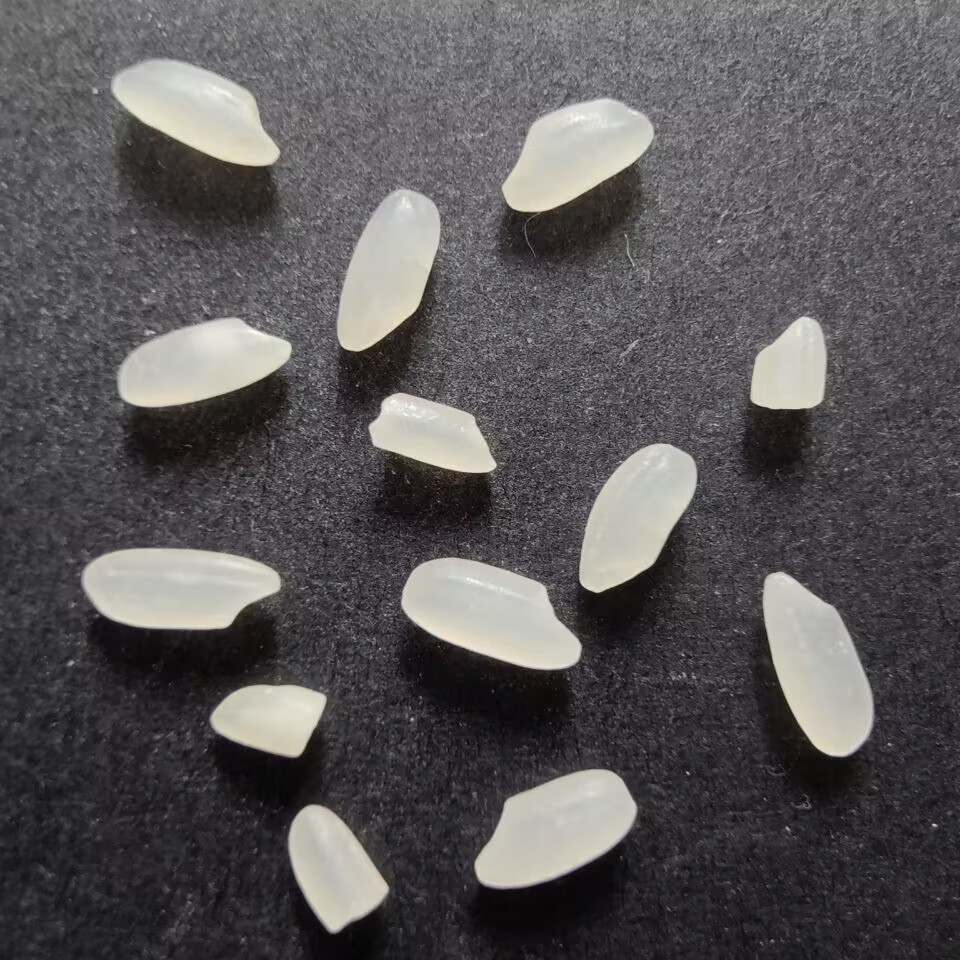broken: (283, 802, 391, 941), (367, 389, 500, 478), (205, 679, 331, 764), (742, 312, 833, 414)
rice: (394, 551, 585, 679), (758, 567, 876, 760), (470, 766, 646, 892), (111, 58, 284, 172), (77, 544, 287, 635), (577, 440, 700, 594), (500, 95, 654, 214), (333, 187, 442, 354), (110, 314, 294, 408)
